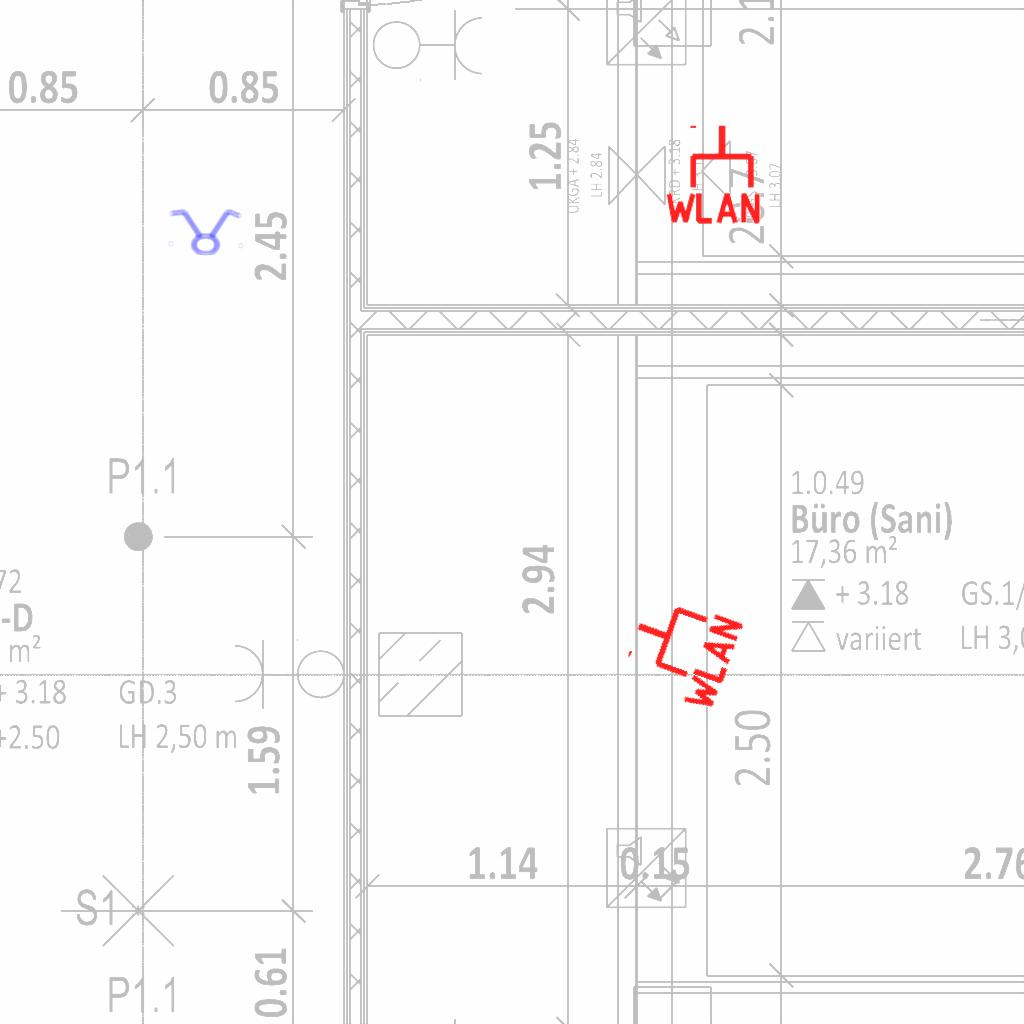Serienschalter: (162, 207, 248, 257)
WLAN: (613, 584, 748, 718), (661, 121, 765, 226)
